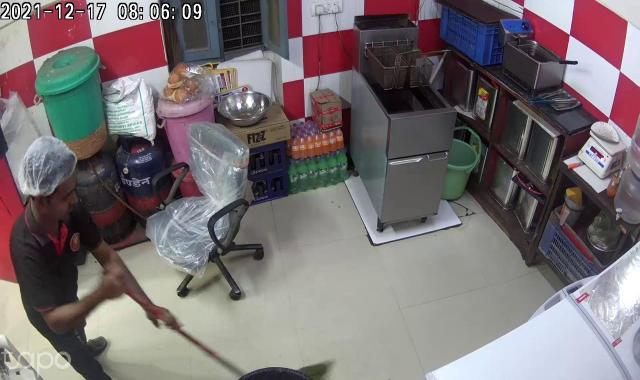hairnet: (15, 136, 80, 197)
